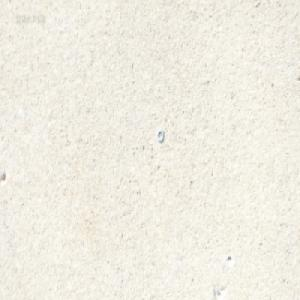Washer: (156, 128, 164, 142)
